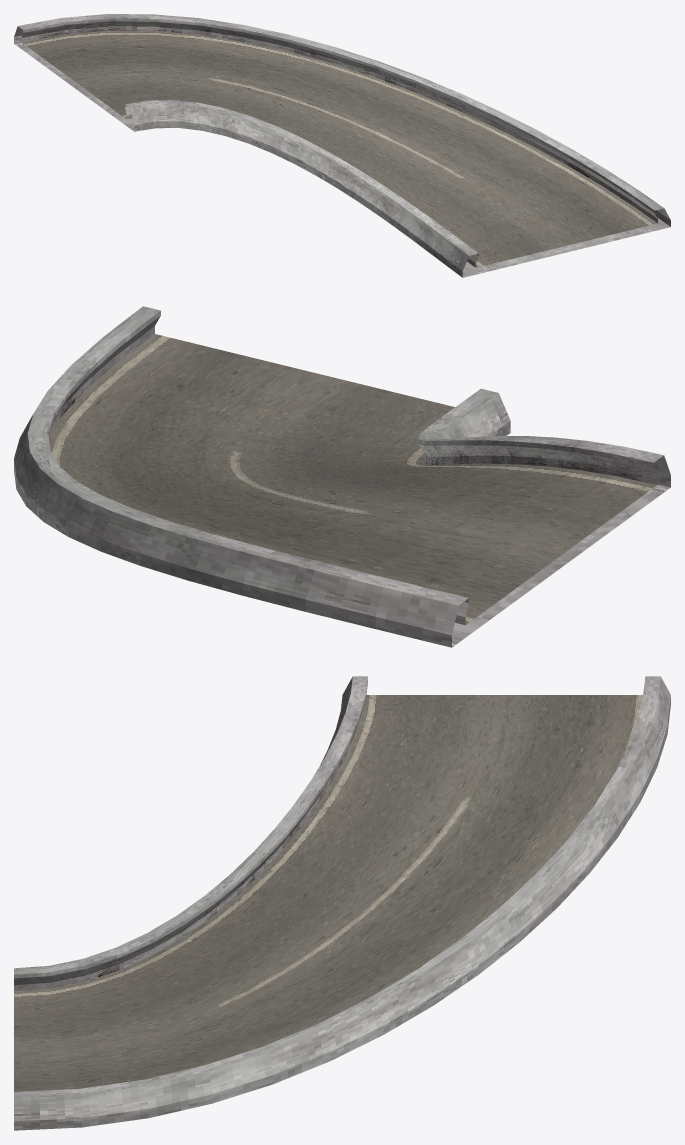
The model's file is road-Turn-Flat-Flat-Up2-Left-Size2.glb.
The picture shows the model from 3 angles, top to bottom: view 1: azimuth 30°, elevation 25°; view 2: azimuth 150°, elevation 25°; view 3: azimuth 270°, elevation 25°; orthographic projection. The views are drawn at different scales.
Parts seen in each view (by area): view 1: road-Turn-Flat-Flat-Up2-Left-Size2; view 2: road-Turn-Flat-Flat-Up2-Left-Size2; view 3: road-Turn-Flat-Flat-Up2-Left-Size2.
Part boxes in pixels (x1=…): road-Turn-Flat-Flat-Up2-Left-Size2: x1=14, y1=14, x2=670, y2=277; road-Turn-Flat-Flat-Up2-Left-Size2: x1=14, y1=306, x2=670, y2=647; road-Turn-Flat-Flat-Up2-Left-Size2: x1=14, y1=676, x2=670, y2=1130.
Bounding box in the file's own units: 2 × 0.5938 × 2.
Materials: 2 (2 with a texture image).
